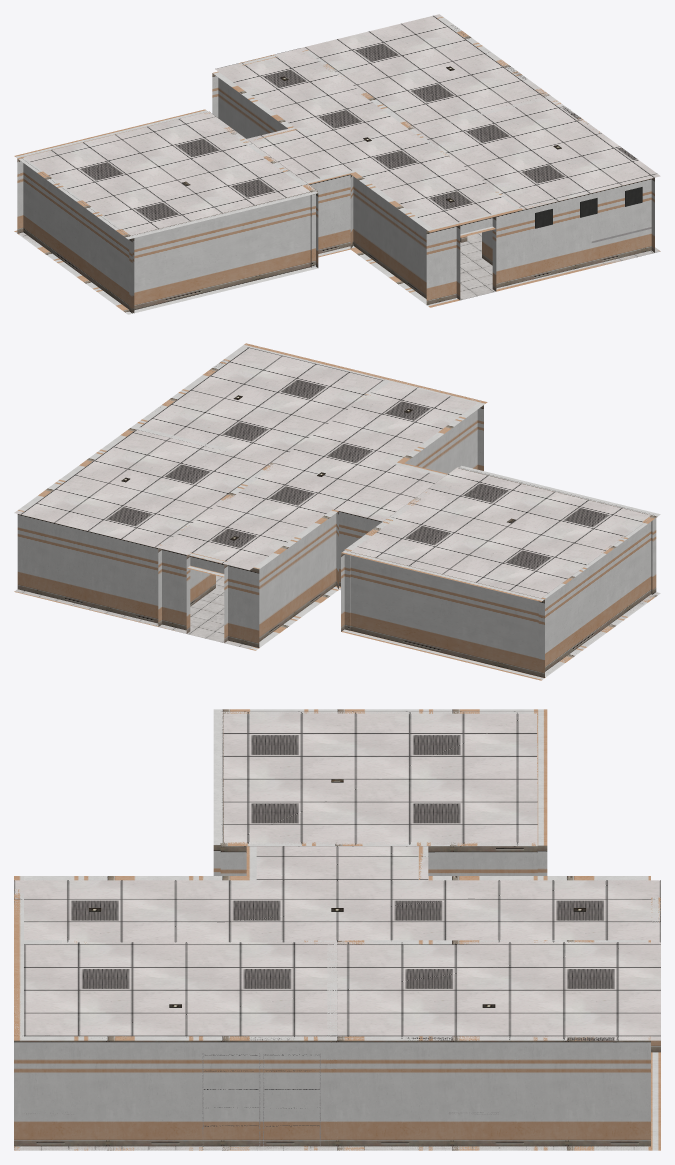
Rendered from RZ_room2_poffices.obj.
The picture shows the model from 3 angles, top to bottom: view 1: azimuth 30°, elevation 25°; view 2: azimuth 150°, elevation 25°; view 3: azimuth 270°, elevation 25°; orthographic projection. The views are drawn at different scales.
Visible parts, largest first — view 1: RZ_room2_poffices; view 2: RZ_room2_poffices; view 3: RZ_room2_poffices.
Part boxes in pixels (x1,y1,x2,y2): RZ_room2_poffices: [14, 14, 660, 314]; RZ_room2_poffices: [14, 343, 660, 680]; RZ_room2_poffices: [14, 709, 660, 1150].
Bounding box in the file's own units: 24.8 × 3.86 × 20.48.
